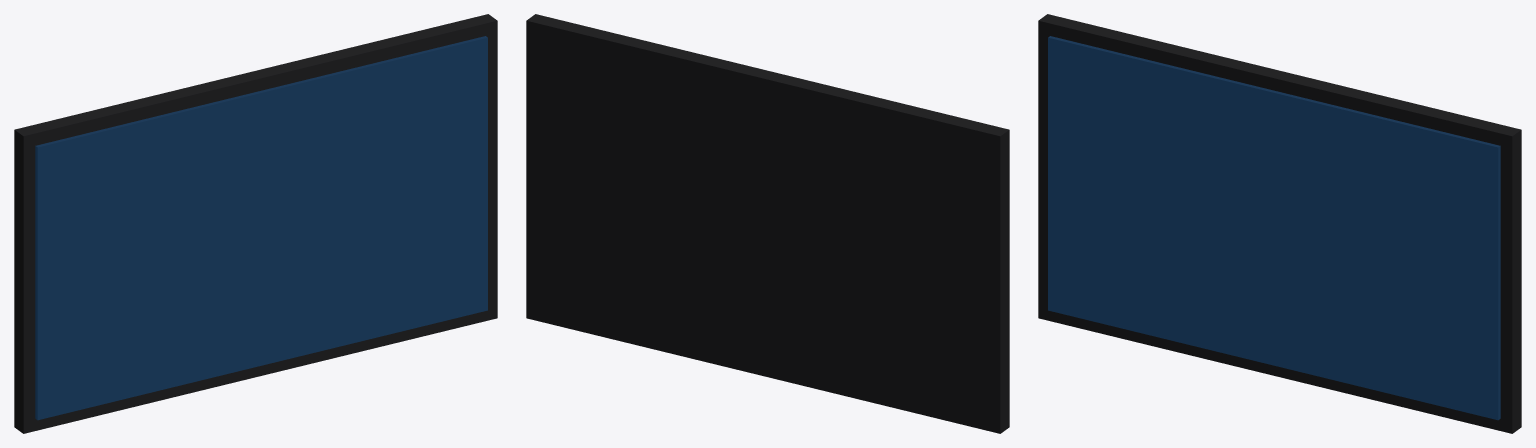
Rendered from wallTv.glb.
3 views of the same model, side by side, from view 1: azimuth 30°, elevation 25°; view 2: azimuth 150°, elevation 25°; view 3: azimuth 330°, elevation 25° (orthographic).
Size of the model in its own units: 1.2 by 0.72 by 0.05.
